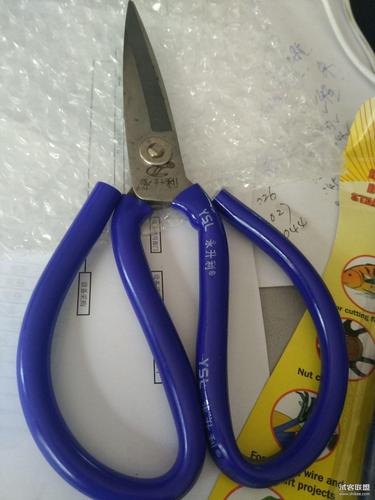scissor: (16, 1, 351, 500)
